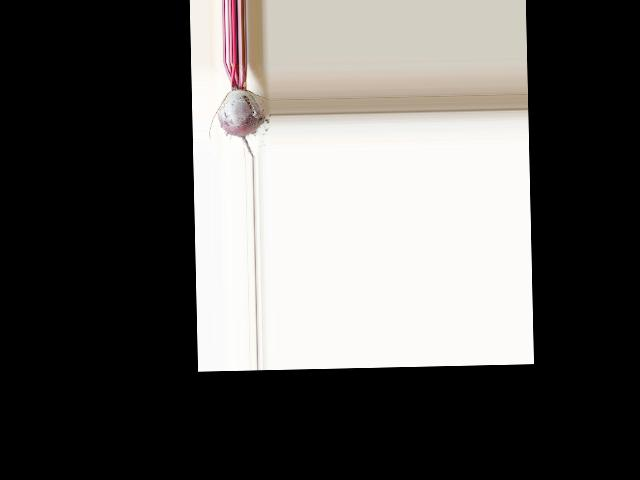beet: (207, 62, 265, 158)
